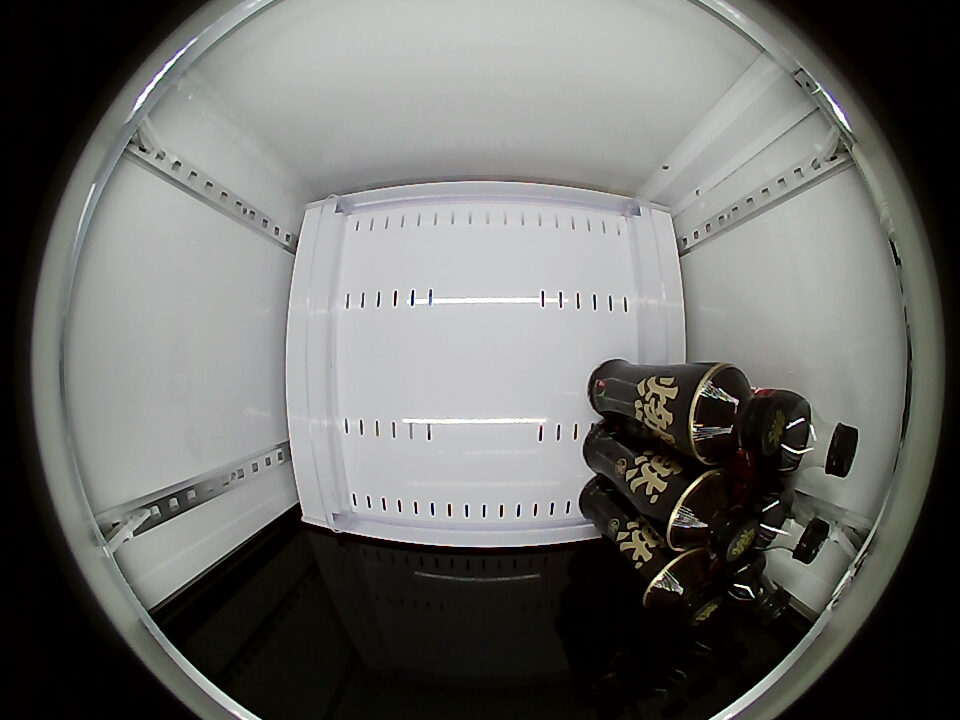lingdukele-b: (778, 397, 859, 478), (751, 486, 831, 564), (724, 557, 792, 622)
rancha-1: (688, 362, 788, 467), (667, 469, 760, 562), (644, 551, 726, 629)
